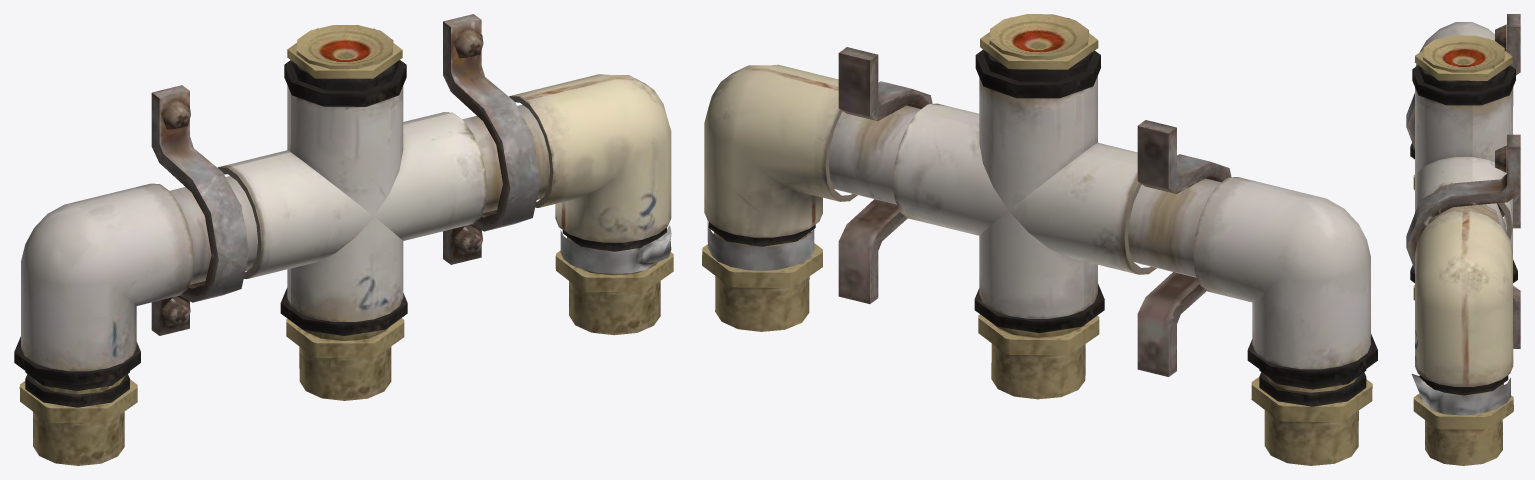
Rendered from fluidsplitter.glb.
The picture shows the model from 3 angles, left to right: view 1: azimuth 30°, elevation 25°; view 2: azimuth 150°, elevation 25°; view 3: azimuth 270°, elevation 25°; orthographic projection. The views are drawn at different scales.
Parts seen in each view (by area): view 1: fluid_splitter; view 2: fluid_splitter; view 3: fluid_splitter.
Part boxes in pixels (x1,y1,x2,y2): fluid_splitter: (14, 14, 673, 465); fluid_splitter: (702, 14, 1377, 465); fluid_splitter: (1406, 14, 1520, 465).
Bounding box in the file's own units: 0.3518 × 0.178 × 0.0642.
Materials: 1 (1 with a texture image).
